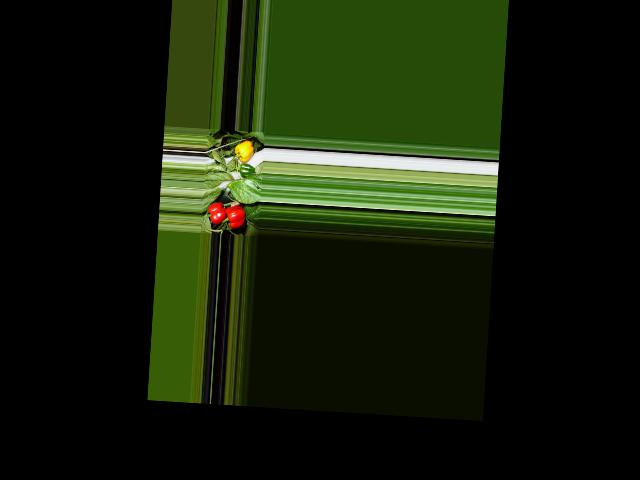bell_pepper: (233, 137, 256, 163)
